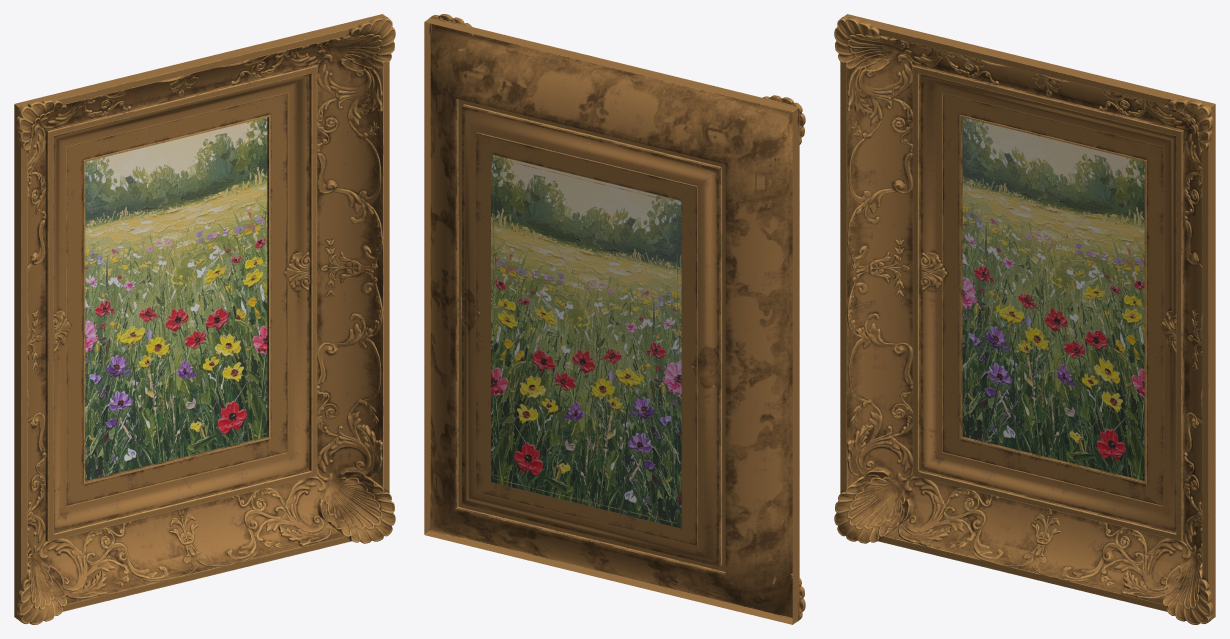
File: painting.fbx
3 renders of one model, left to right at view 1: azimuth 30°, elevation 25°; view 2: azimuth 150°, elevation 25°; view 3: azimuth 330°, elevation 25°, orthographic.
Visible parts, largest first — view 1: Retro picture frame.001; view 2: Retro picture frame.001; view 3: Retro picture frame.001.
Part boxes in pixels (box(x1,y1,x2,y2)): Retro picture frame.001: box(14, 14, 395, 624); Retro picture frame.001: box(424, 14, 805, 624); Retro picture frame.001: box(834, 14, 1215, 624).
Size of the model in its own units: 4.5 by 0.6938 by 5.97.
